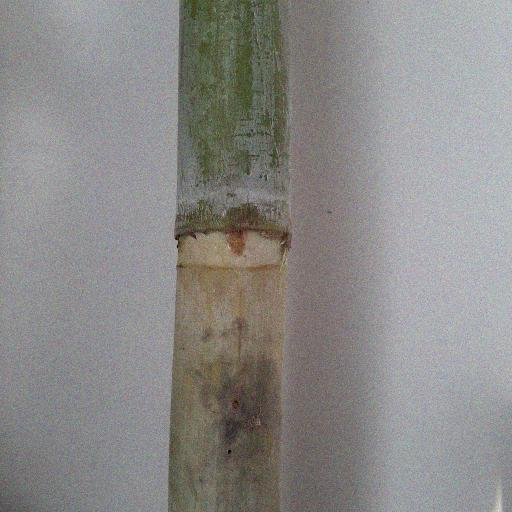Damage_Bud: (225, 228, 246, 259)
